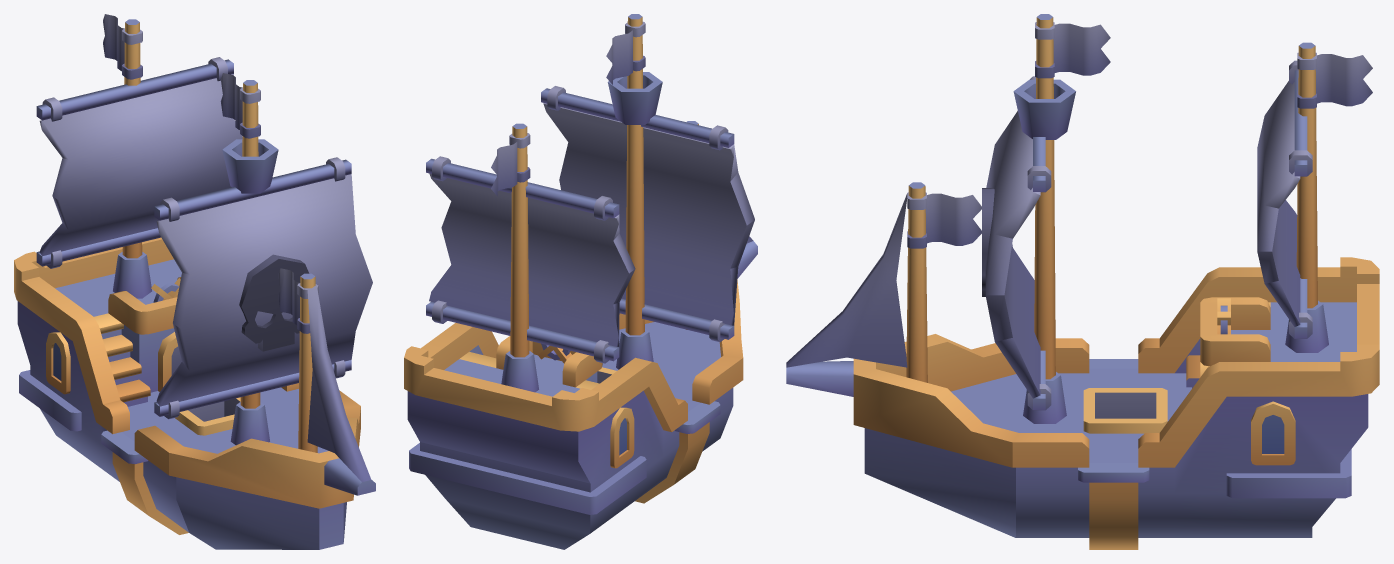
File: ship-pirate-medium.fbx
3 renders of one model, left to right at view 1: azimuth 30°, elevation 25°; view 2: azimuth 150°, elevation 25°; view 3: azimuth 270°, elevation 25°, orthographic. The views are drawn at different scales.
Visible parts, largest first — view 1: ship-pirate-medium, sail-a, sail-b, flag-b, flag-c, flag-a; view 2: ship-pirate-medium, sail-a, sail-b, flag-c, flag-b; view 3: ship-pirate-medium, sail-a, sail-b, flag-b, flag-c, flag-a.
Boxes of the visible parts, x1,y1,x2,y2 form: ship-pirate-medium: (14,19,375,549); sail-a: (154,157,372,419); sail-b: (36,57,242,268); flag-b: (220,73,260,138); flag-c: (103,14,142,79); flag-a: (278,268,318,333); ship-pirate-medium: (404,14,757,549); sail-a: (541,86,754,341); sail-b: (426,156,635,363); flag-c: (491,133,530,196); flag-b: (606,21,645,84); ship-pirate-medium: (786,14,1379,549); sail-a: (982,76,1051,410); sail-b: (1257,60,1312,338); flag-b: (1035,22,1110,78); flag-c: (1297,52,1372,108); flag-a: (907,192,981,248).
Bounding box in the file's own units: 480 × 996 × 1060.
